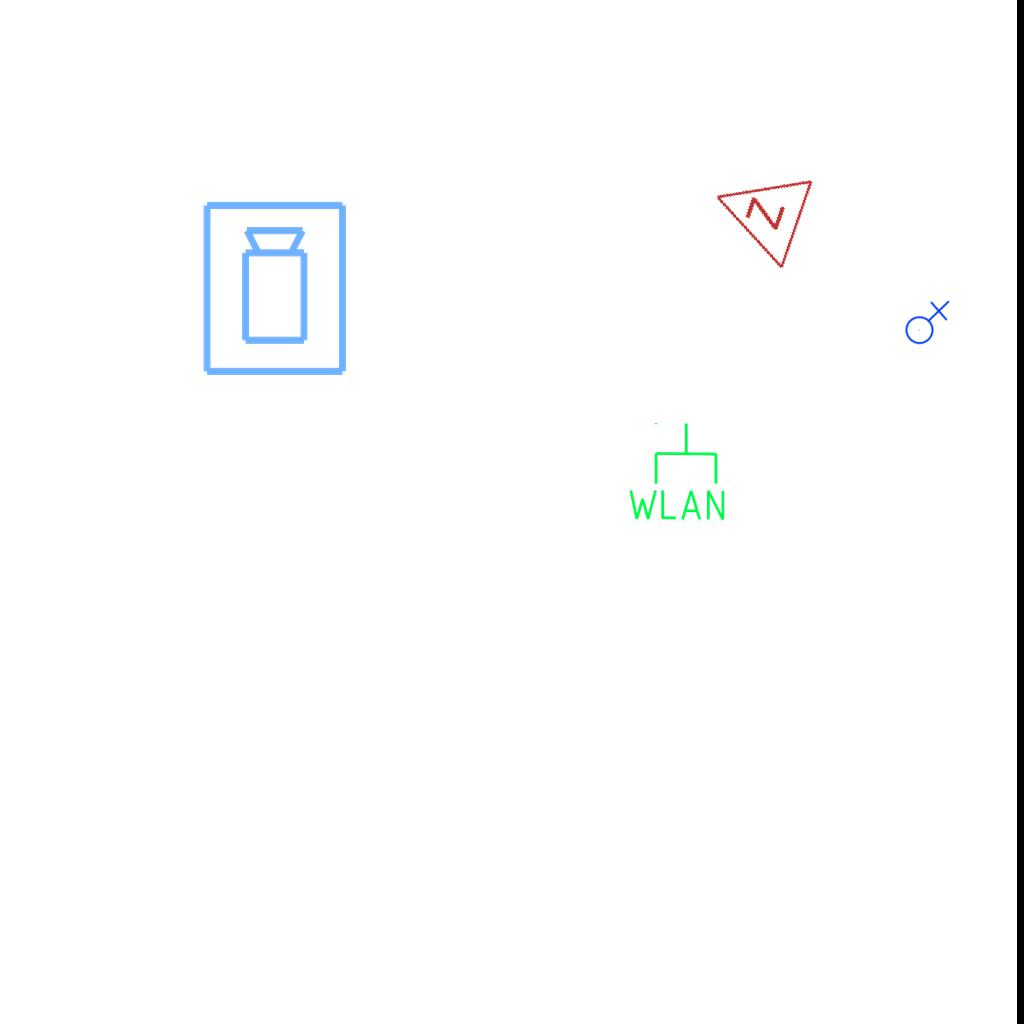Elektroanschluss_allgemein_230V_Geraeteanschlussdose_230V: (901, 298, 950, 345)
KFO_Kamera_mit_Festobjektiv: (199, 198, 353, 380)
WLAN: (624, 420, 729, 524)
Zimmersignalleuchte: (693, 149, 821, 275)
